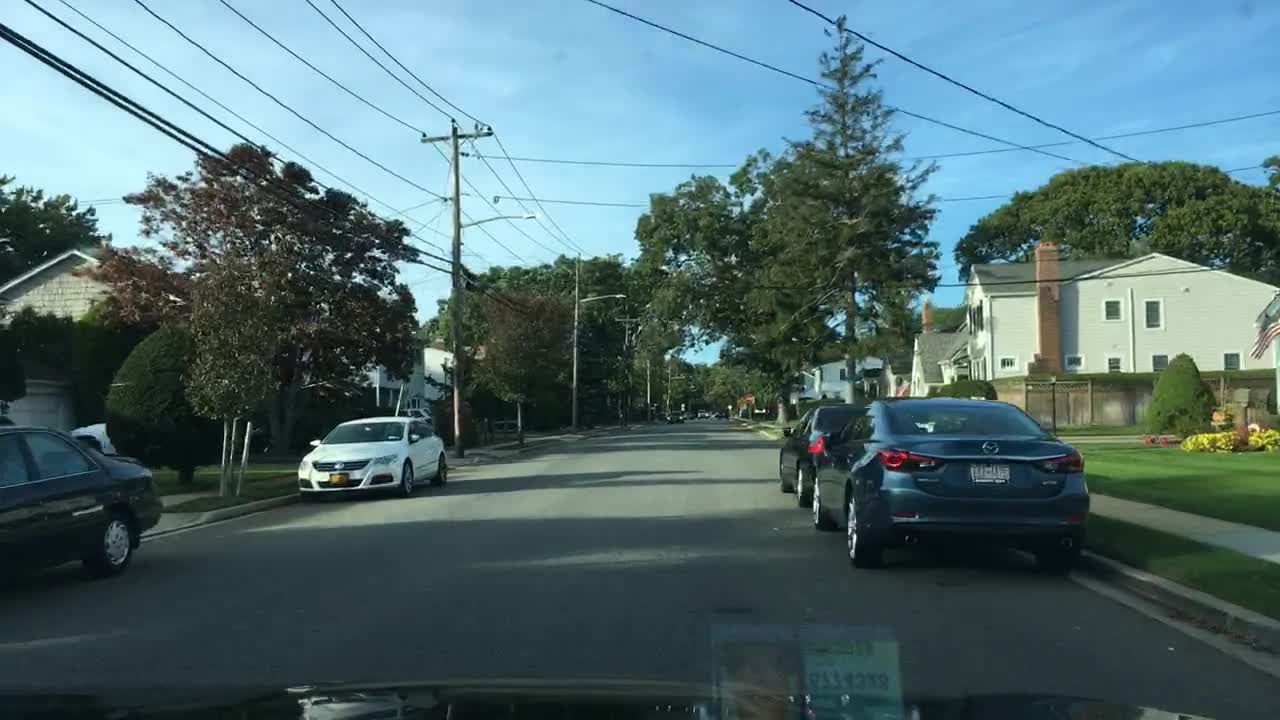car: (798, 396, 1095, 575), (0, 421, 165, 594), (294, 412, 451, 502), (777, 396, 904, 502), (246, 414, 338, 458), (64, 423, 116, 460), (394, 405, 442, 432), (662, 410, 688, 429), (710, 406, 734, 423), (695, 408, 710, 423), (681, 410, 695, 423)
traffic sign: (739, 391, 758, 409)
